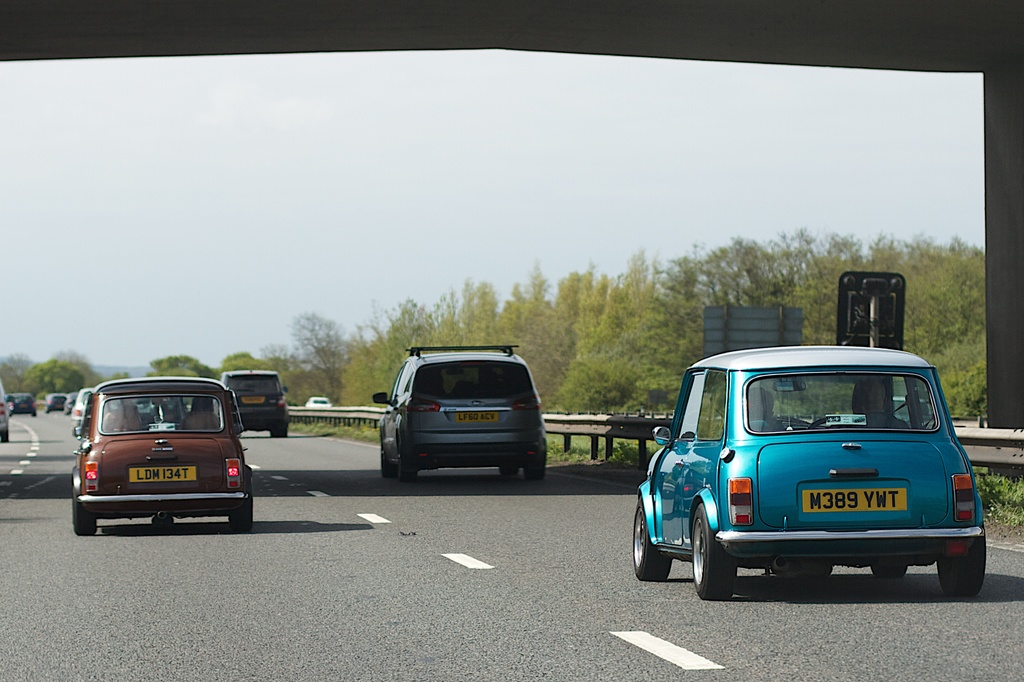Car: (636, 343, 991, 609), (67, 371, 257, 538), (371, 338, 552, 482), (218, 368, 289, 436), (67, 387, 140, 439), (3, 387, 37, 419), (41, 388, 73, 413), (0, 398, 11, 444)
